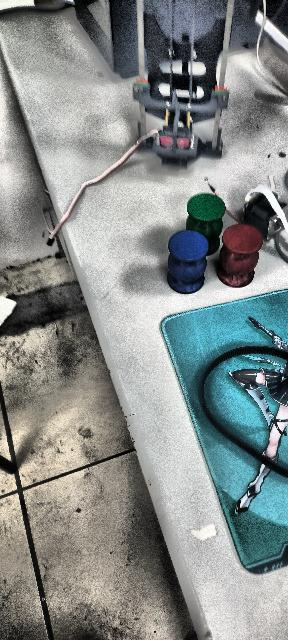blue: (167, 229, 209, 293)
green: (186, 194, 224, 257)
red: (217, 221, 264, 289)
